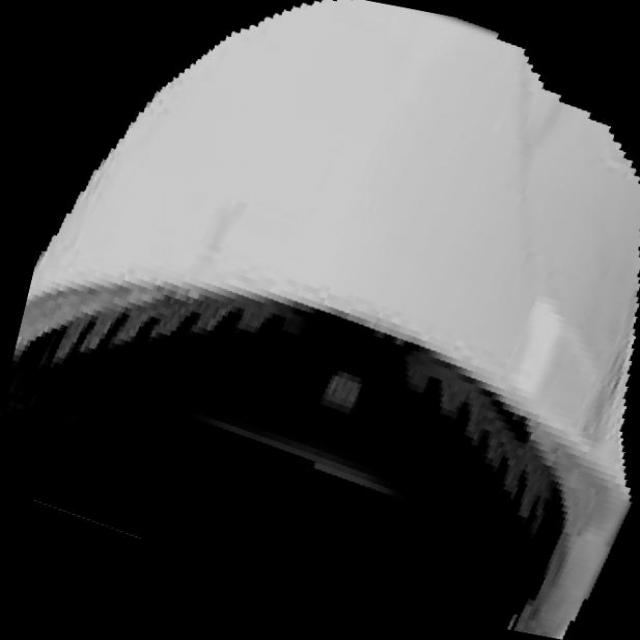construction helmet: (0, 1, 639, 639)
